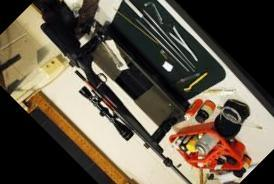larga: (40, 17, 192, 184)
